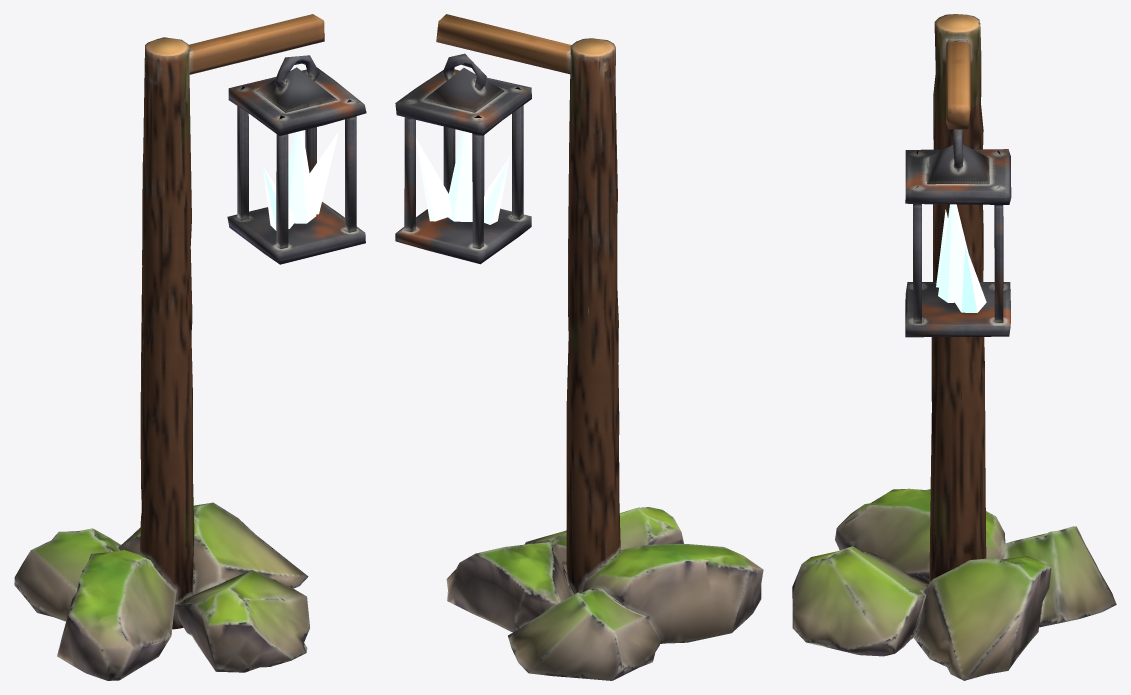
File: glow_lantern.glb
3 views of the same model, side by side, from view 1: azimuth 30°, elevation 25°; view 2: azimuth 150°, elevation 25°; view 3: azimuth 270°, elevation 25° (orthographic). The views are drawn at different scales.
Parts seen in each view (by area): view 1: glow_lantern, glow_lantern_crystal; view 2: glow_lantern, glow_lantern_crystal; view 3: glow_lantern, glow_lantern_crystal.
Boxes of the visible parts, x1,y1,x2,y2 form: glow_lantern: (14, 14, 366, 680); glow_lantern_crystal: (263, 130, 338, 230); glow_lantern: (395, 14, 763, 680); glow_lantern_crystal: (416, 131, 509, 224); glow_lantern: (792, 14, 1116, 680); glow_lantern_crystal: (936, 204, 986, 312).
Bounding box in the file's own units: 0.89 × 1.6 × 0.7974.
Materials: 4 (1 with a texture image).
